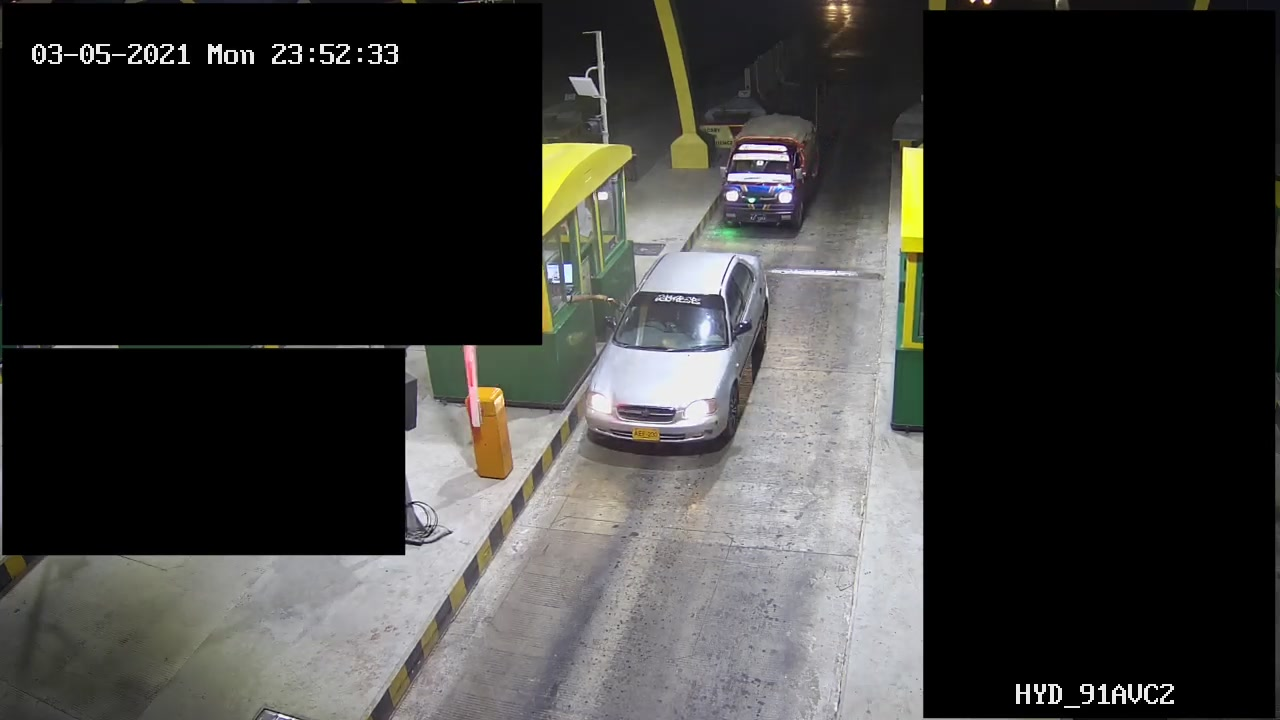F1: (572, 244, 776, 455), (707, 110, 822, 232)
